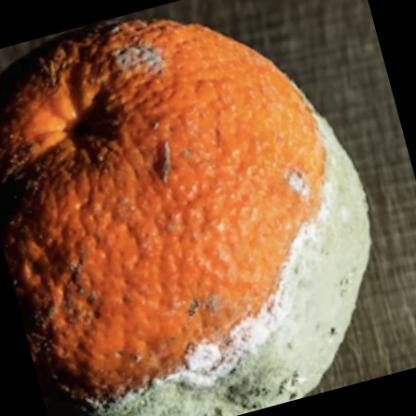rotten: (5, 20, 373, 416)
